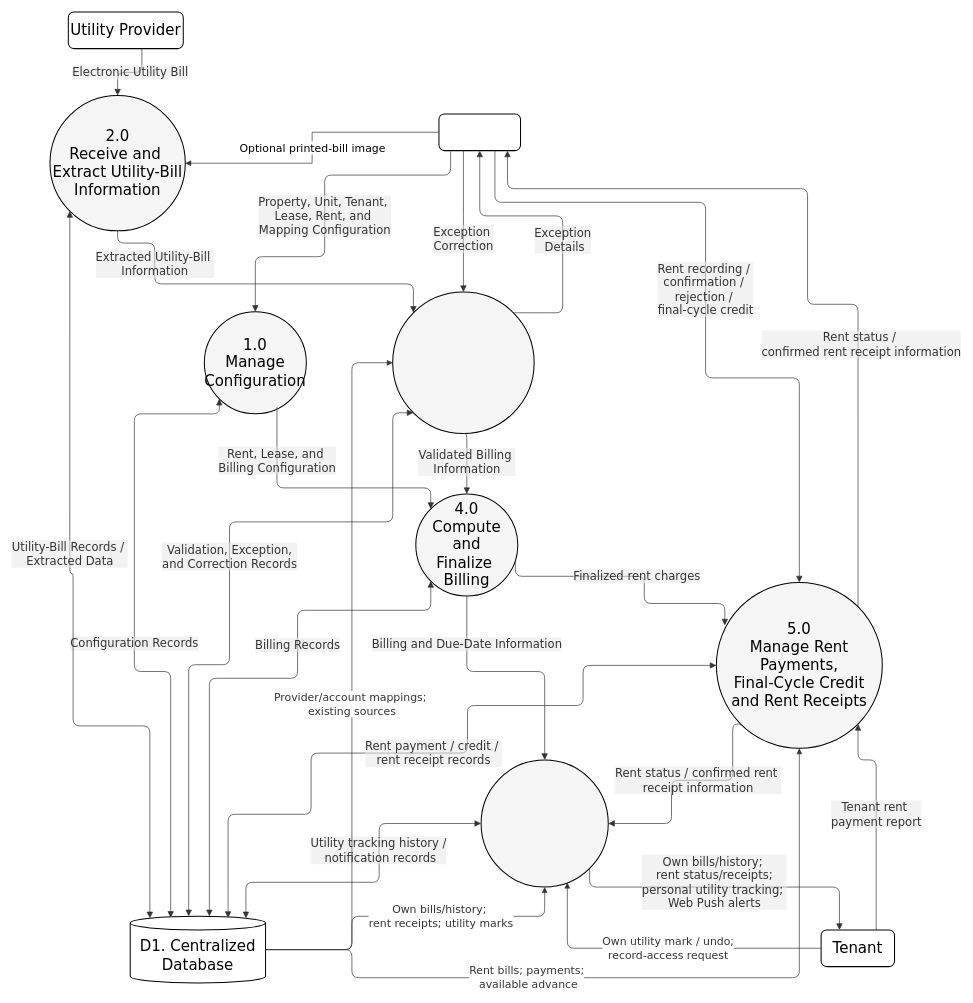
The diagram is 973 pixels wide and 1003 high, and some of its shapes have lost their labels. Each missing label, with the centre of its shape:
"3.0 Validate Billing Information and Manage Exceptions" belongs at (463,362).
"6.0 Provide Tenant Access, Personal Utility Tracking and Notifications" belongs at (544,823).
"Manager" belongs at (479,132).
